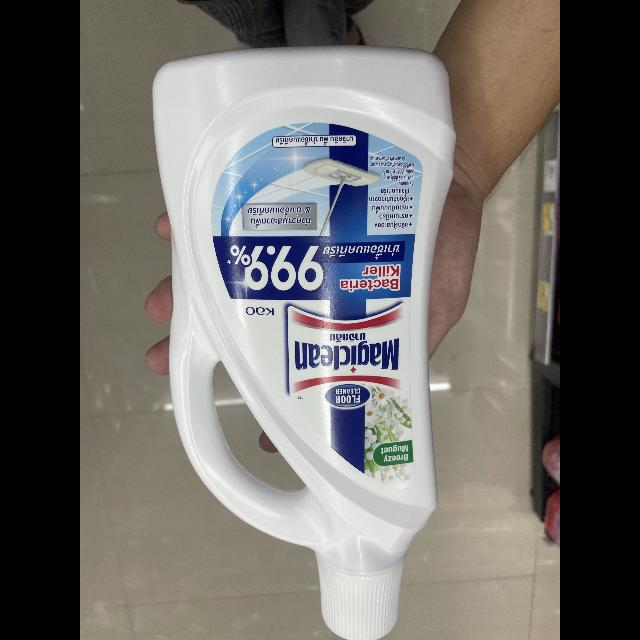chemical_plastic_gallon: (140, 42, 460, 640)
